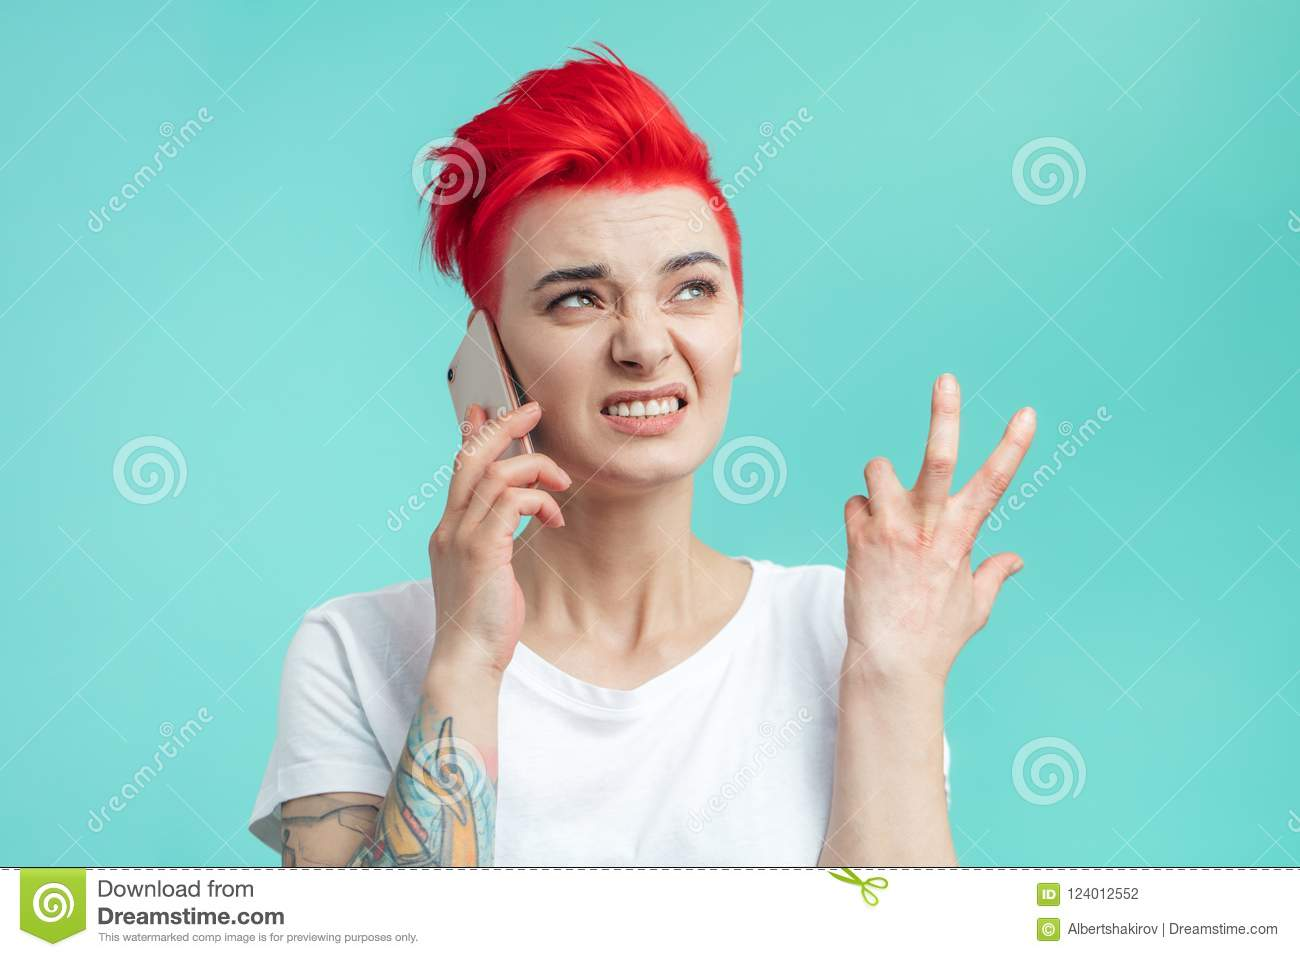phone: (446, 304, 537, 523)
talk: (419, 240, 728, 658)
